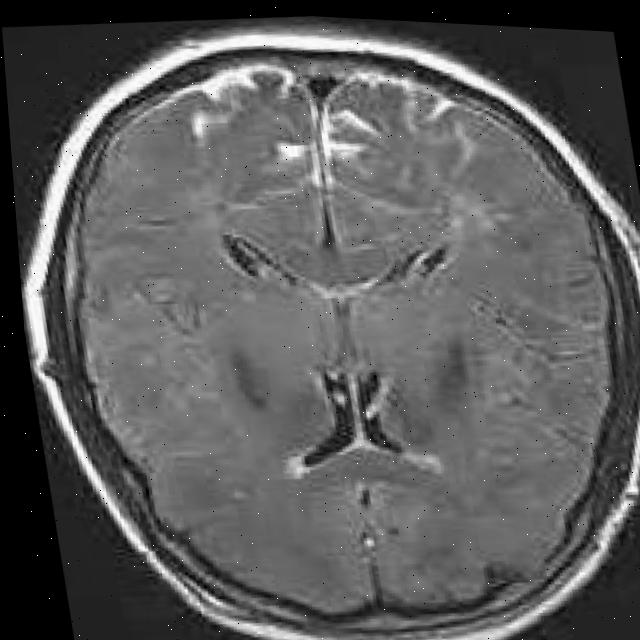NoTumor: (10, 12, 640, 640)
